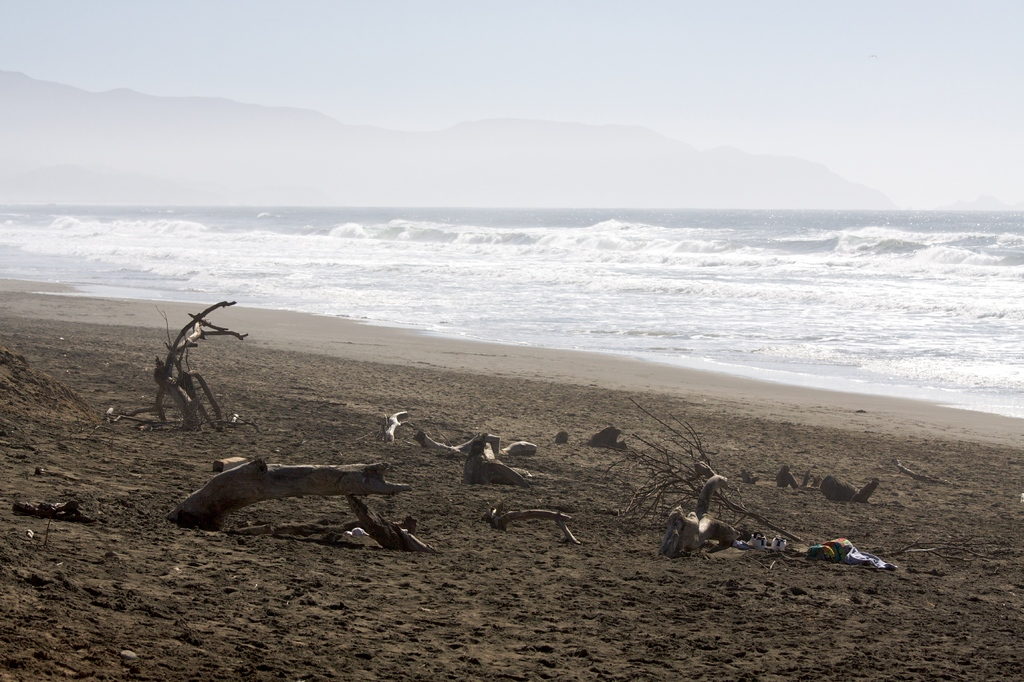Animal: (664, 469, 734, 559), (457, 431, 515, 487), (817, 471, 878, 501), (776, 463, 815, 488)
